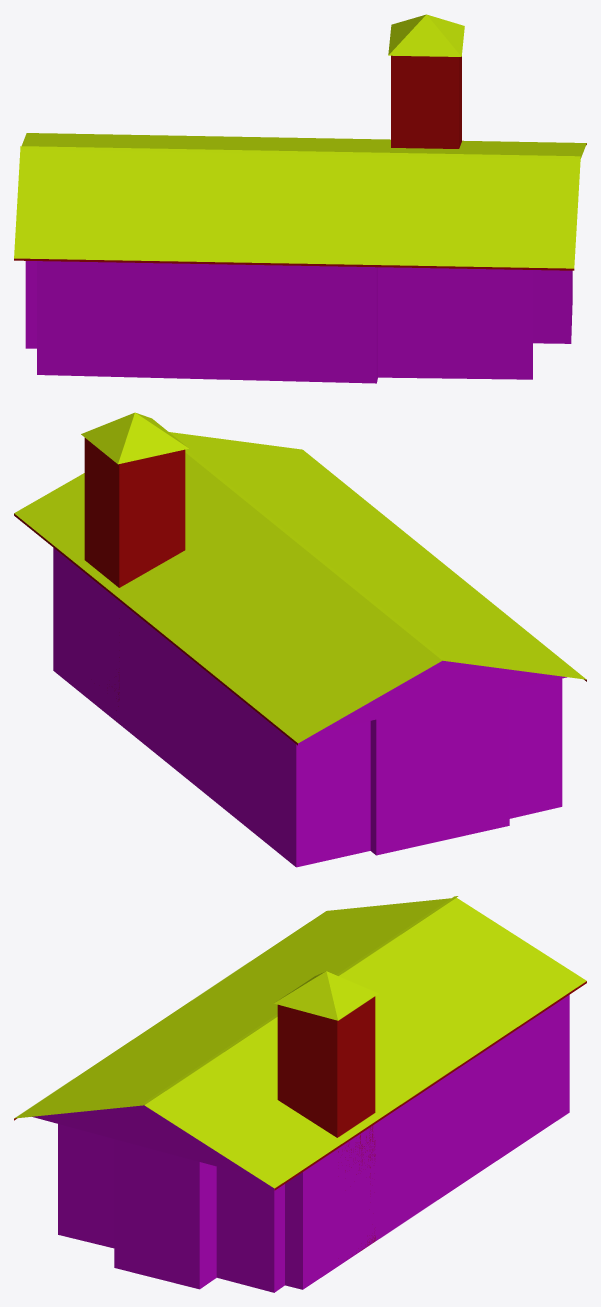
Rendered from rmc_81.glb.
3 renders of one model, top to bottom at view 1: azimuth 30°, elevation 25°; view 2: azimuth 150°, elevation 25°; view 3: azimuth 270°, elevation 25°, orthographic. The views are drawn at different scales.
Parts seen in each view (by area): view 1: rmc_81; view 2: rmc_81; view 3: rmc_81.
Boxes of the visible parts, bbox=[...] form: rmc_81: bbox=[14, 14, 586, 383]; rmc_81: bbox=[14, 412, 586, 867]; rmc_81: bbox=[14, 896, 586, 1292].
Bounding box in the file's own units: 32.55 × 15.05 × 28.39.
